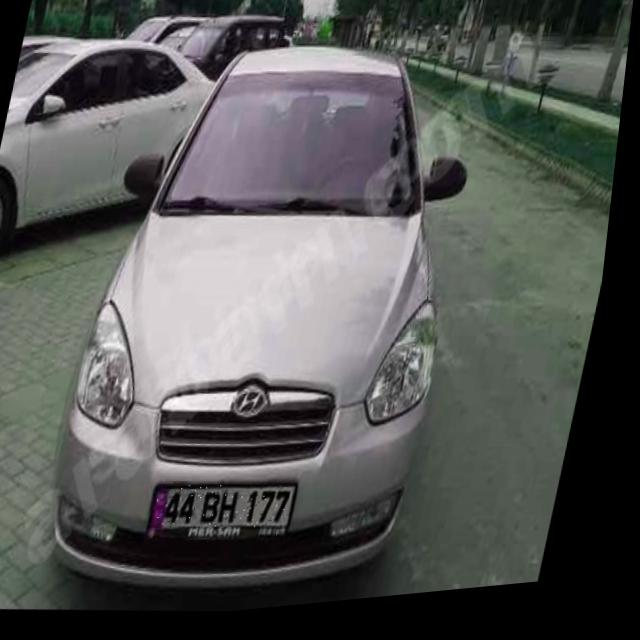license_plate: (159, 477, 311, 547)
